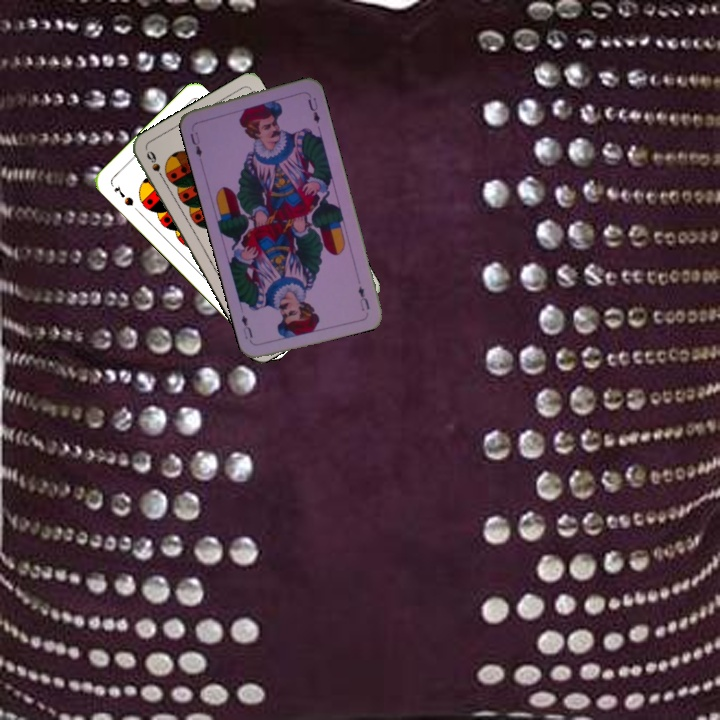EU: (354, 282, 372, 314), (186, 128, 204, 159)
S7: (110, 181, 136, 208)
S9: (142, 147, 168, 184)
